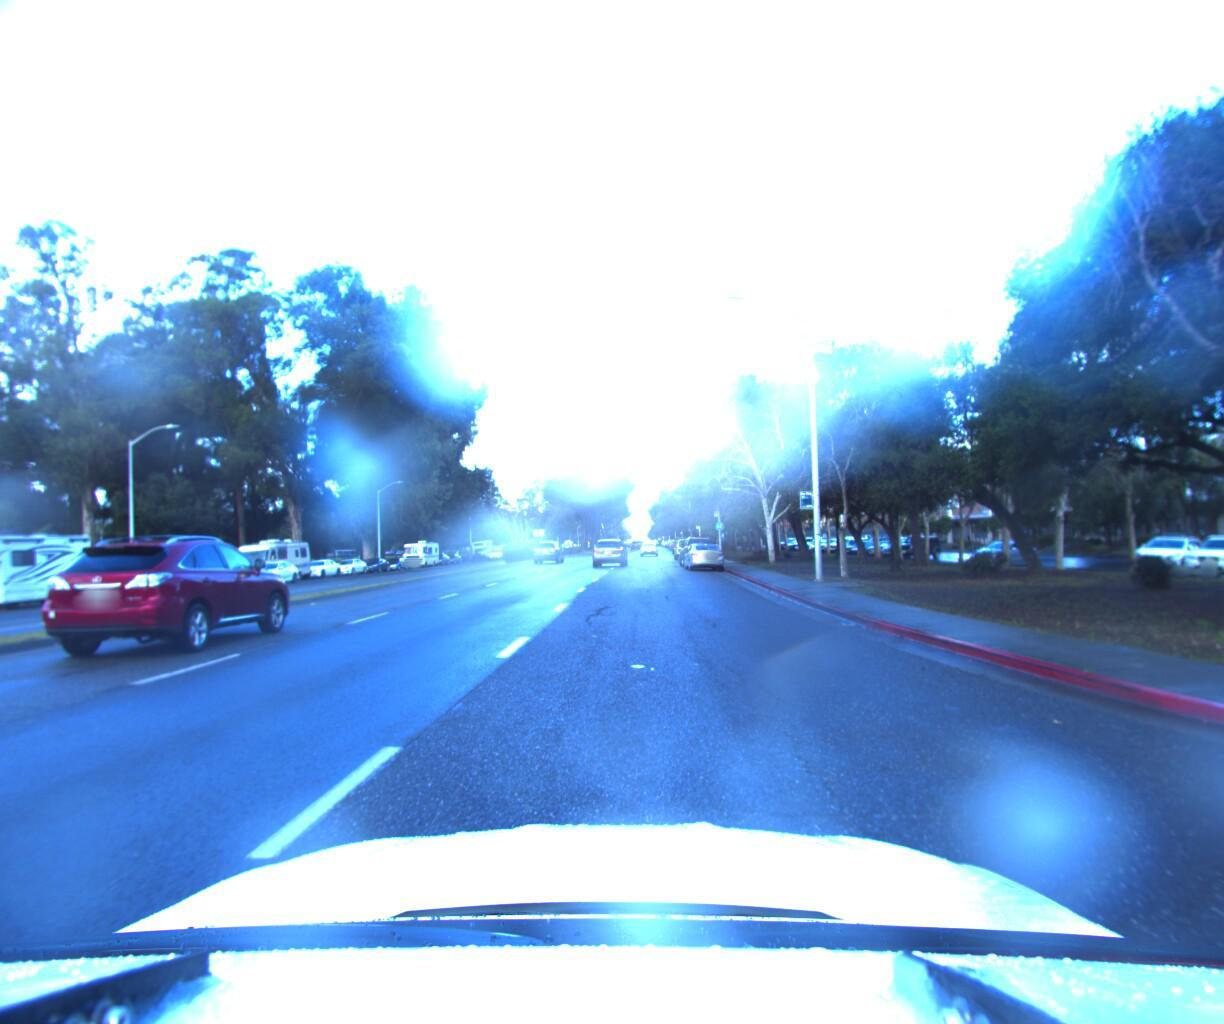car: (29, 529, 310, 668), (240, 558, 303, 586), (680, 541, 727, 573), (676, 533, 718, 567), (586, 536, 628, 566), (295, 560, 347, 581), (533, 540, 569, 564), (357, 556, 397, 576), (327, 558, 371, 576), (379, 555, 415, 574), (638, 540, 658, 555)
other_vehicle: (0, 530, 108, 622), (227, 539, 318, 587)
